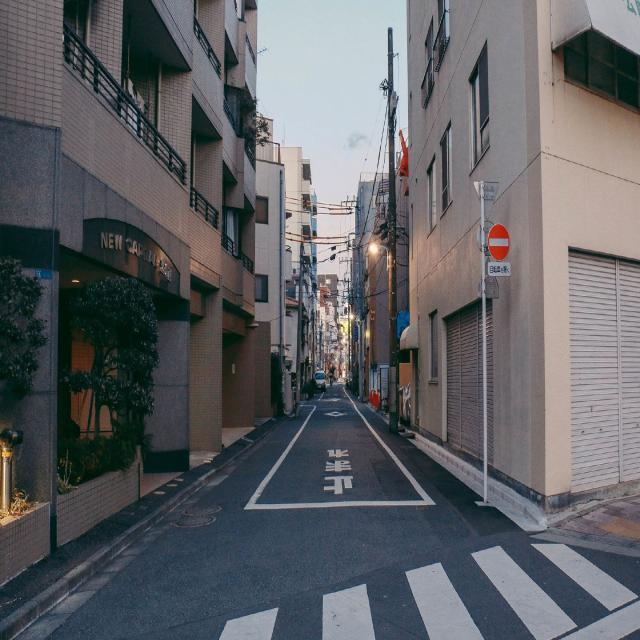car: (314, 370, 326, 392)
pole: (384, 26, 399, 431), (479, 302, 490, 502), (293, 248, 305, 418)
